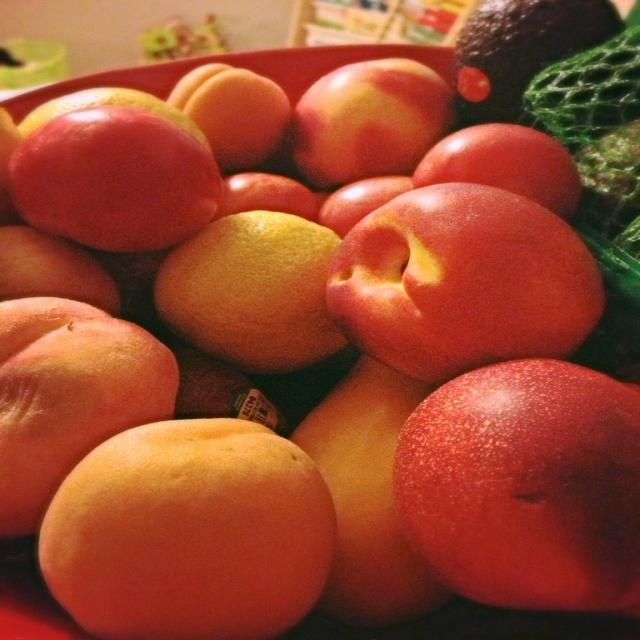Orange: (153, 193, 345, 373)
